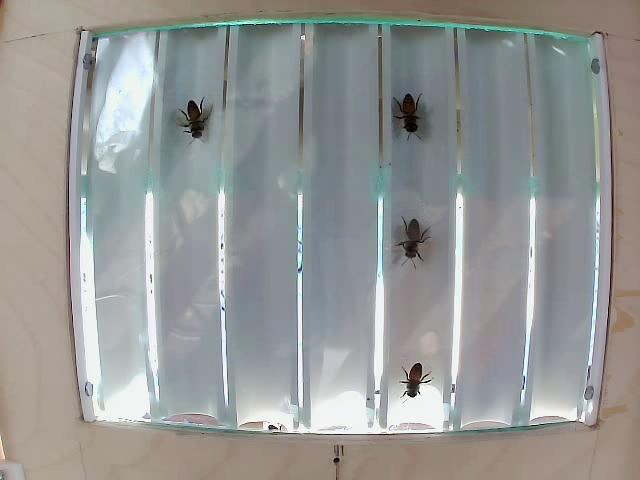bee: (393, 86, 432, 153), (394, 213, 438, 267), (397, 369, 425, 390), (187, 107, 204, 141)
